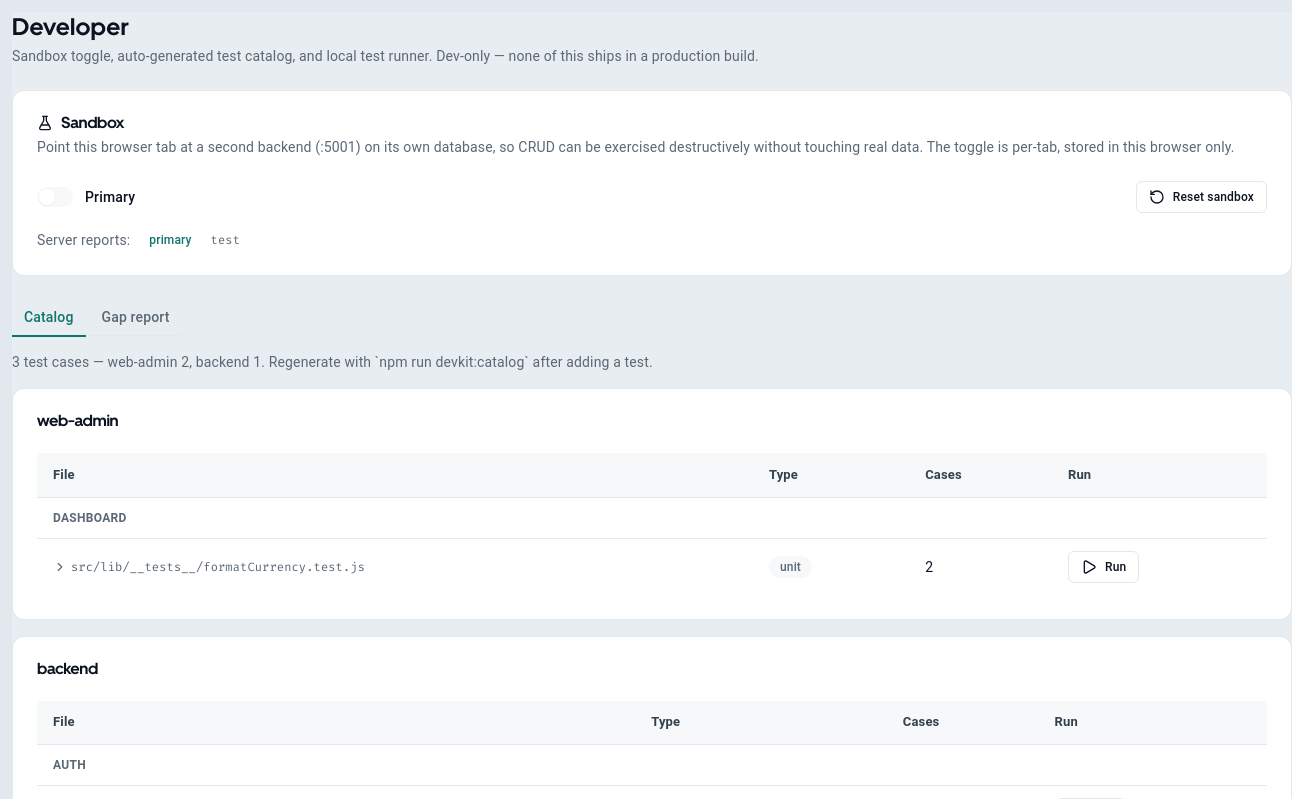
Test: DeveloperPage › streams run output and reports the exit code, for an allowlisted catalog id only
Expected: the text "src/lib/__tests__/formatCurrency.test.js" is shown, top-left (71, 558), bottom-right (365, 574)
Step 1. Click the button "Run" in the row of "unit" → x=1104, y=566, box top-left (1068, 550), bottom-right (1139, 582)
(page scrolled)
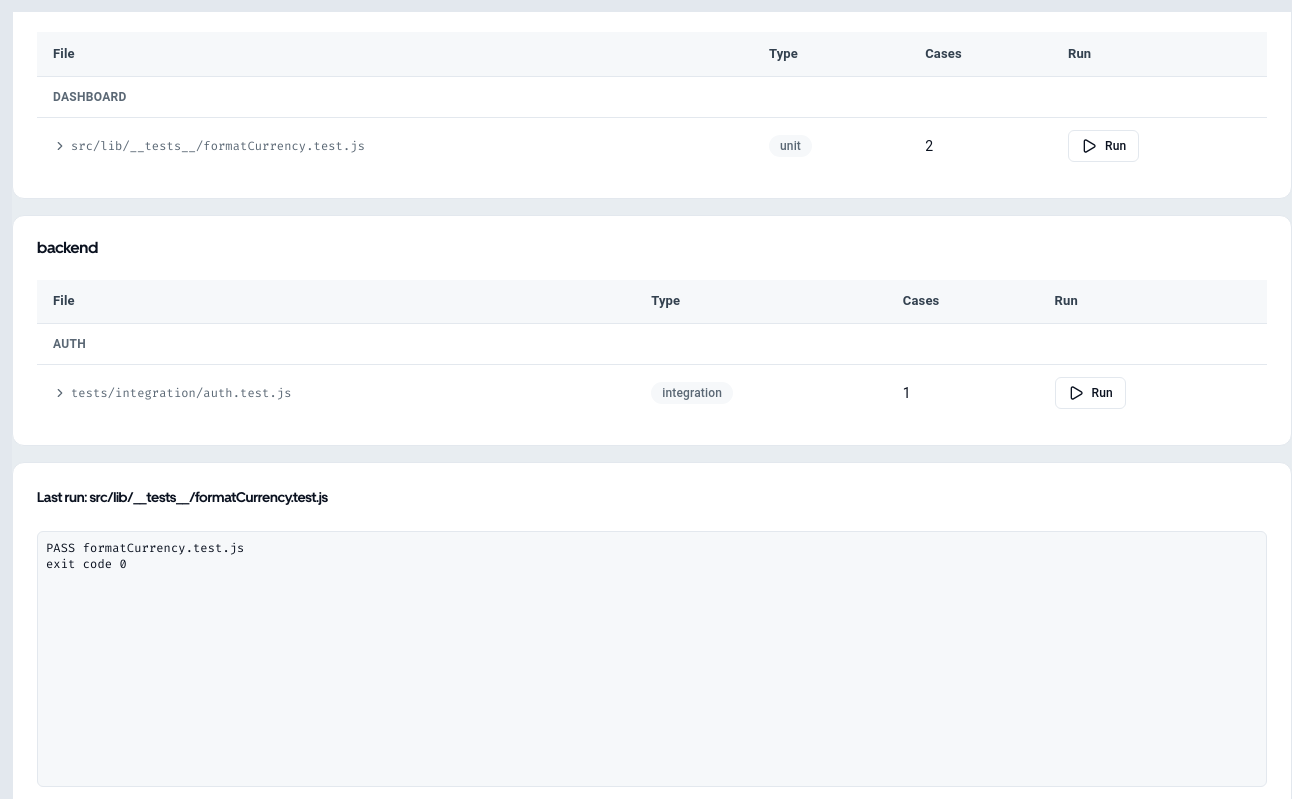
Expected: the text "PASS formatCurrency.test.js exit code 0" is shown, top-left (46, 540), bottom-right (244, 572)
